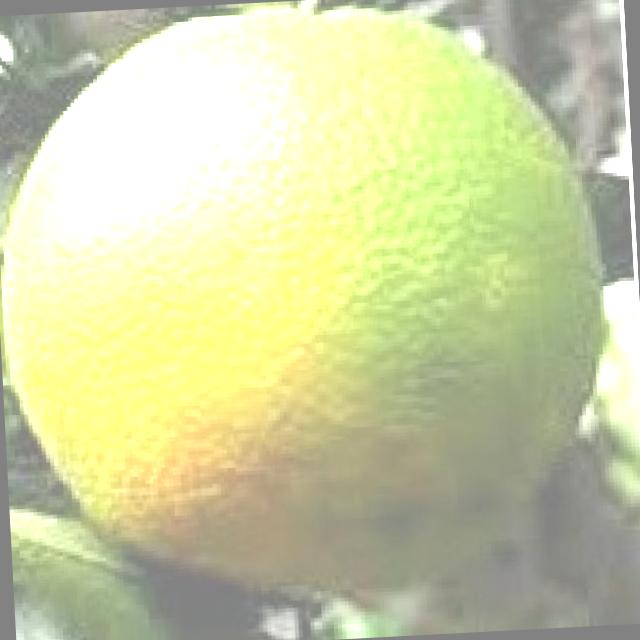Orange: (0, 0, 627, 620)
